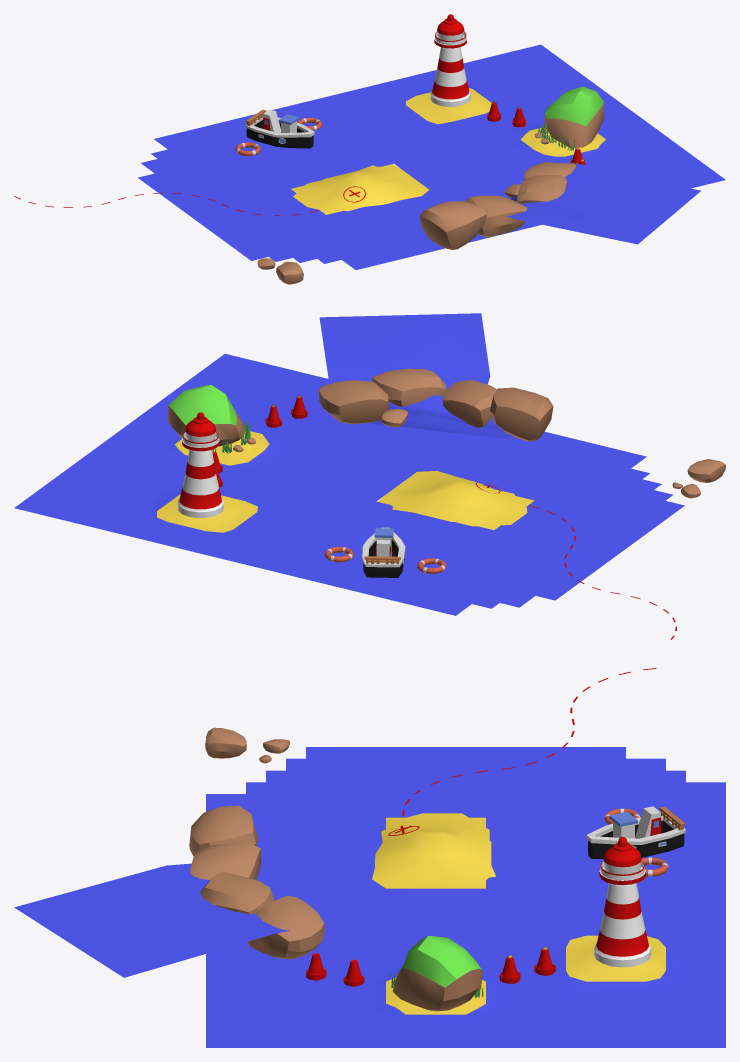
Rendered from Fase Mar.fbx.
The picture shows the model from 3 angles, top to bottom: view 1: azimuth 30°, elevation 25°; view 2: azimuth 150°, elevation 25°; view 3: azimuth 270°, elevation 25°; orthographic projection. The views are drawn at different scales.
Parts seen in each view (by area): view 1: Fase Mar, Mar, Ponto Mar, Rochas.009, Farol, Rochas.004, Barco, Rochas.005, Rochas.006, Rochas.008, Rochas.003; view 2: Fase Mar, Mar, Ponto Mar, Farol, Rochas.009, Rochas.004, Rochas.008, Rochas.006, Rochas.005, Barco, Rochas.003; view 3: Fase Mar, Mar, Ponto Mar, Farol, Rochas.009, Barco, Rochas.008, Rochas.004, Rochas.006, Rochas.005, Rochas.003.
Boxes of the visible parts, box(x1,y1,x2,y2) form: Fase Mar: box(138, 44, 725, 269); Mar: box(507, 163, 700, 244); Ponto Mar: box(291, 164, 429, 214); Rochas.009: box(544, 86, 603, 147); Farol: box(430, 14, 470, 106); Rochas.004: box(420, 201, 486, 250); Barco: box(245, 109, 314, 148); Rochas.005: box(465, 195, 527, 237); Rochas.006: box(516, 174, 566, 203); Rochas.008: box(524, 162, 577, 179); Rochas.003: box(276, 262, 303, 284); Fase Mar: box(14, 353, 684, 615); Mar: box(319, 313, 512, 438); Ponto Mar: box(378, 471, 534, 529); Farol: box(177, 412, 223, 517); Rochas.009: box(168, 385, 244, 446); Rochas.004: box(489, 387, 553, 441); Rochas.008: box(318, 380, 389, 424); Rochas.006: box(372, 368, 446, 406); Rochas.005: box(442, 380, 496, 427); Barco: box(362, 527, 405, 577); Rochas.003: box(687, 459, 725, 482); Fase Mar: box(206, 747, 725, 1047); Mar: box(14, 863, 289, 977); Ponto Mar: box(372, 813, 495, 888); Farol: box(594, 837, 651, 967); Rochas.009: box(393, 936, 482, 1011); Barco: box(586, 806, 685, 858); Rochas.008: box(247, 896, 324, 959); Rochas.004: box(189, 805, 258, 856); Rochas.006: box(200, 871, 274, 914); Rochas.005: box(190, 843, 260, 879); Rochas.003: box(205, 727, 246, 758).
Size of the model in its own units: 5895 by 987 by 4688.
